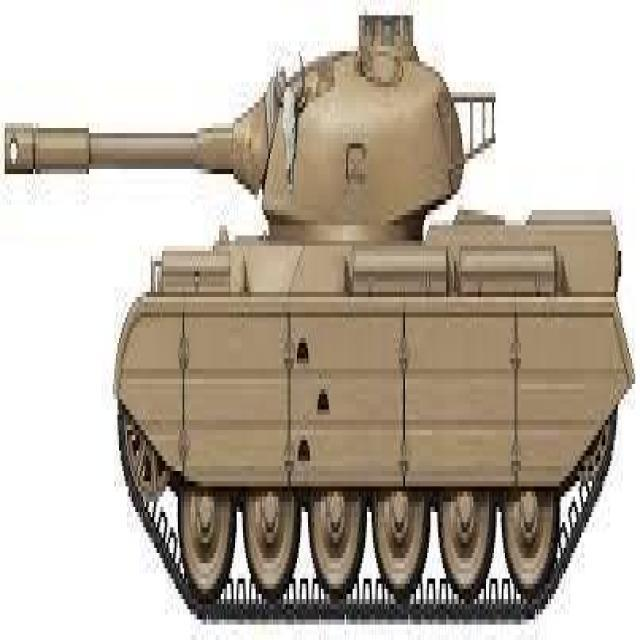MIL_MBT: (6, 15, 634, 620)
